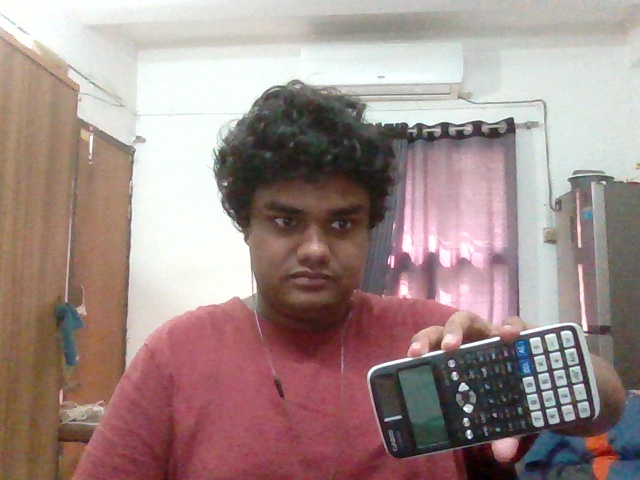calculator: (368, 322, 599, 459)
